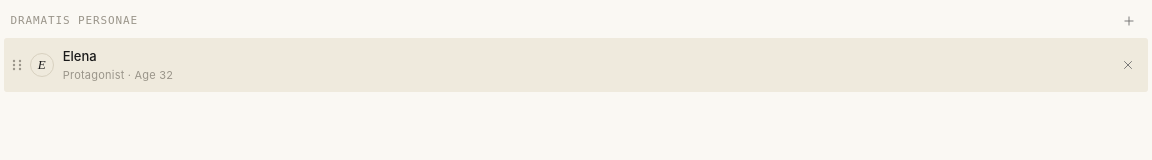
CastTab — delete › clicking × opens InlineConfirm and removes the × slot
Click the button with test id "character-row-a-delete" at coordinates (1128, 65), box left=1116, top=53, right=1140, bottom=77
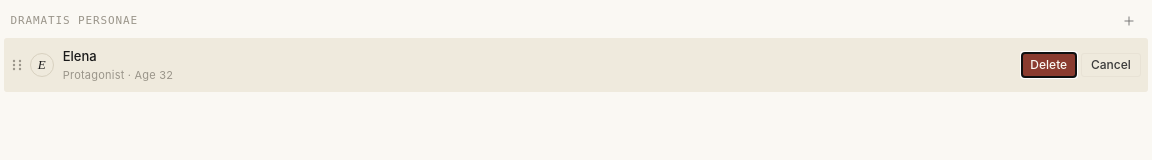
Expected: the button with test id "character-row-a-delete" is gone
